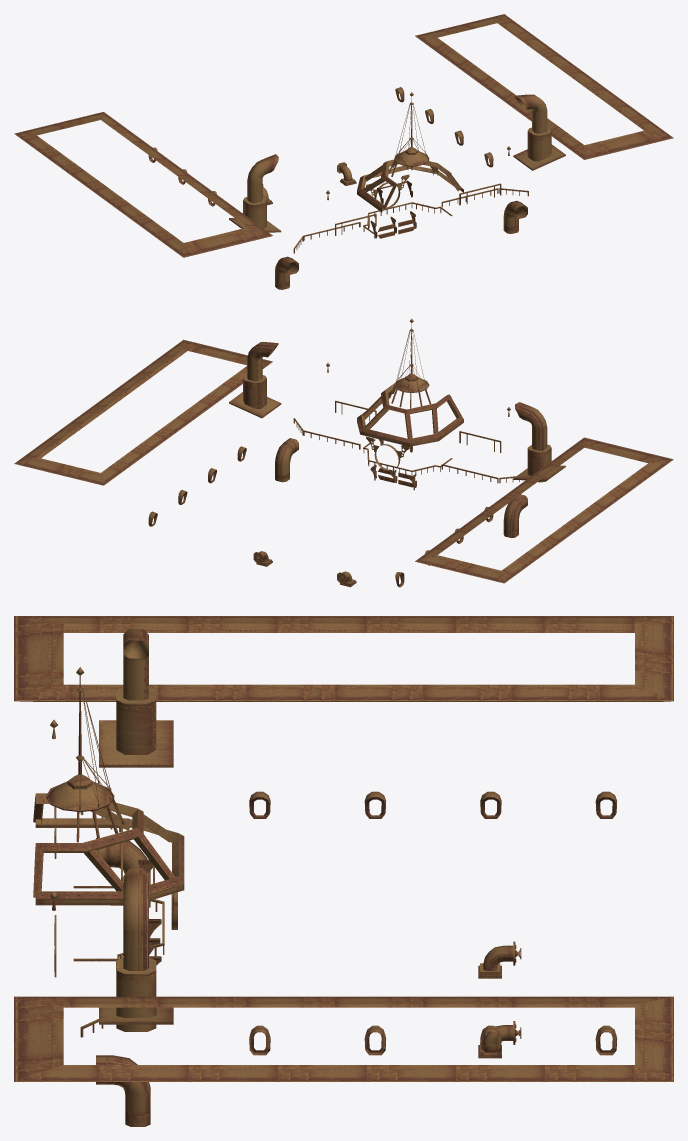
The model's file is SteamMetal.fbx.
The picture shows the model from 3 angles, top to bottom: view 1: azimuth 30°, elevation 25°; view 2: azimuth 150°, elevation 25°; view 3: azimuth 270°, elevation 25°; orthographic projection. The views are drawn at different scales.
Visible parts, largest first — view 1: SteamMetal; view 2: SteamMetal; view 3: SteamMetal.
Boxes of the visible parts, x1=… form: SteamMetal: x1=14, y1=14, x2=673, y2=289; SteamMetal: x1=14, y1=318, x2=673, y2=587; SteamMetal: x1=14, y1=616, x2=673, y2=1126.
Size of the model in its own units: 476 by 165 by 285.
1 material, 1 textured.
